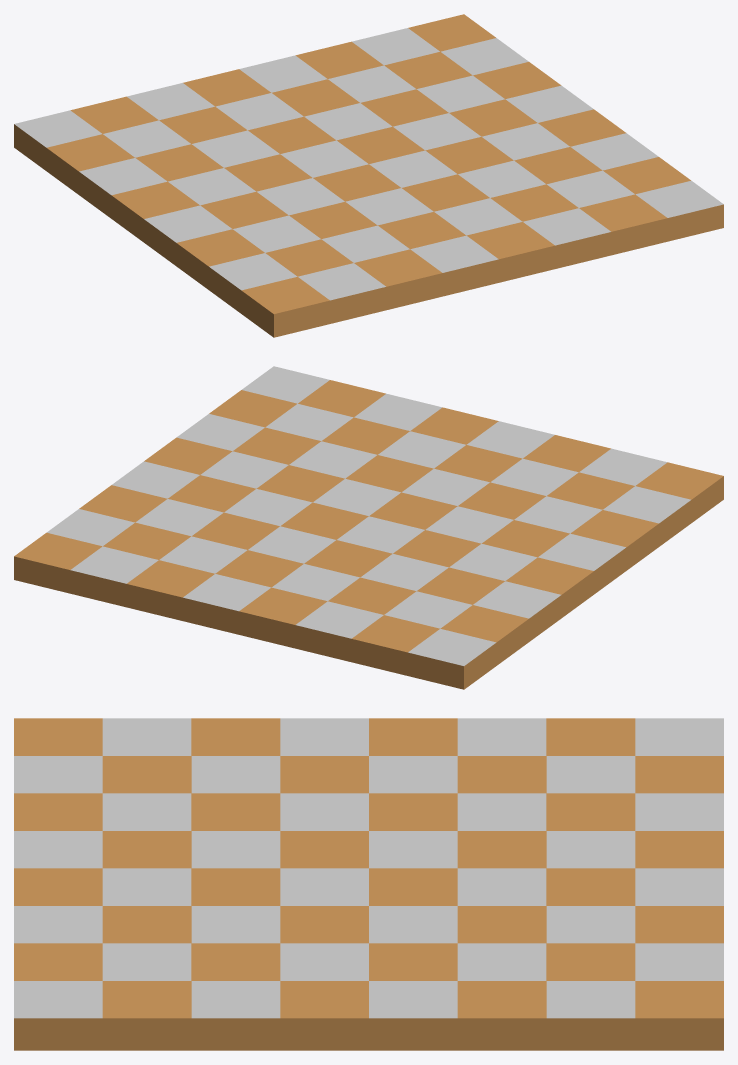
File: Checker Board.fbx
The picture shows the model from 3 angles, top to bottom: view 1: azimuth 30°, elevation 25°; view 2: azimuth 150°, elevation 25°; view 3: azimuth 270°, elevation 25°; orthographic projection. The views are drawn at different scales.
Parts seen in each view (by area): view 1: Checkerboard; view 2: Checkerboard; view 3: Checkerboard.
Part boxes in pixels (box(x1,y1,x2,y2)): Checkerboard: box(14, 14, 723, 337); Checkerboard: box(14, 366, 723, 689); Checkerboard: box(14, 718, 723, 1050).
Bounding box in the file's own units: 300 × 300 × 15.
